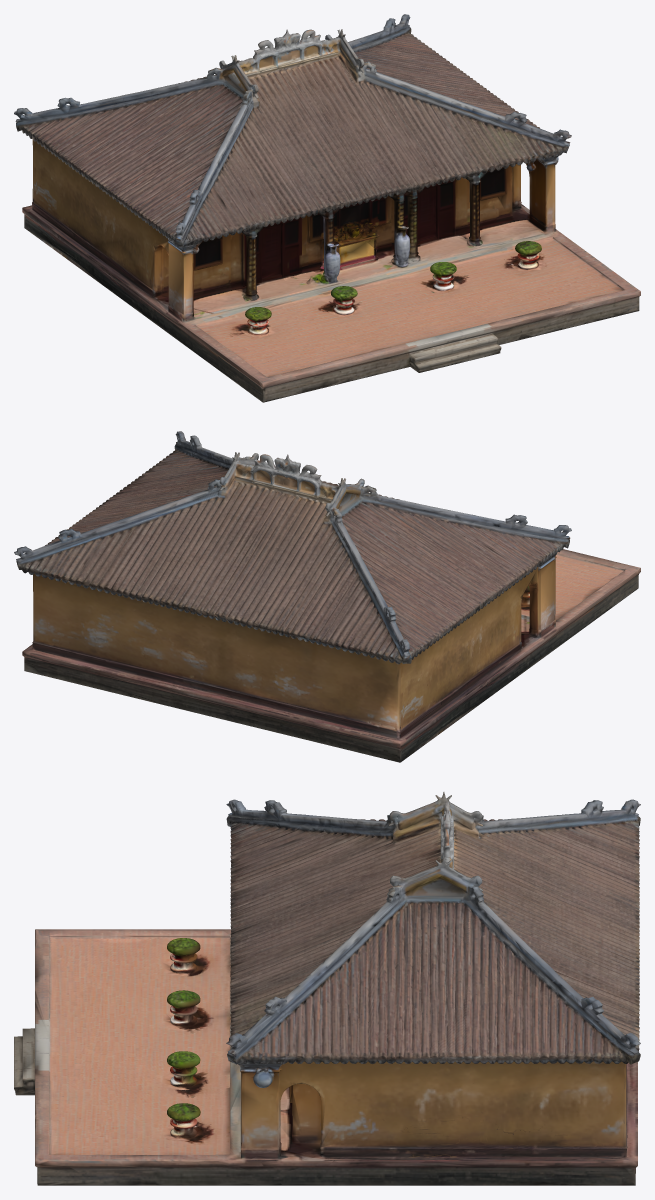
Rendered from chuagiaclam-v1.glb.
The picture shows the model from 3 angles, top to bottom: view 1: azimuth 30°, elevation 25°; view 2: azimuth 150°, elevation 25°; view 3: azimuth 270°, elevation 25°; orthographic projection. The views are drawn at different scales.
Visible parts, largest first — view 1: node_0; view 2: node_0; view 3: node_0.
Boxes of the visible parts, x1=… form: node_0: x1=14, y1=14, x2=640, y2=402; node_0: x1=14, y1=431, x2=640, y2=762; node_0: x1=14, y1=792, x2=640, y2=1185.
Size of the model in its own units: 0.7912 by 0.3969 by 0.8642.
Materials: 1 (1 with a texture image).
